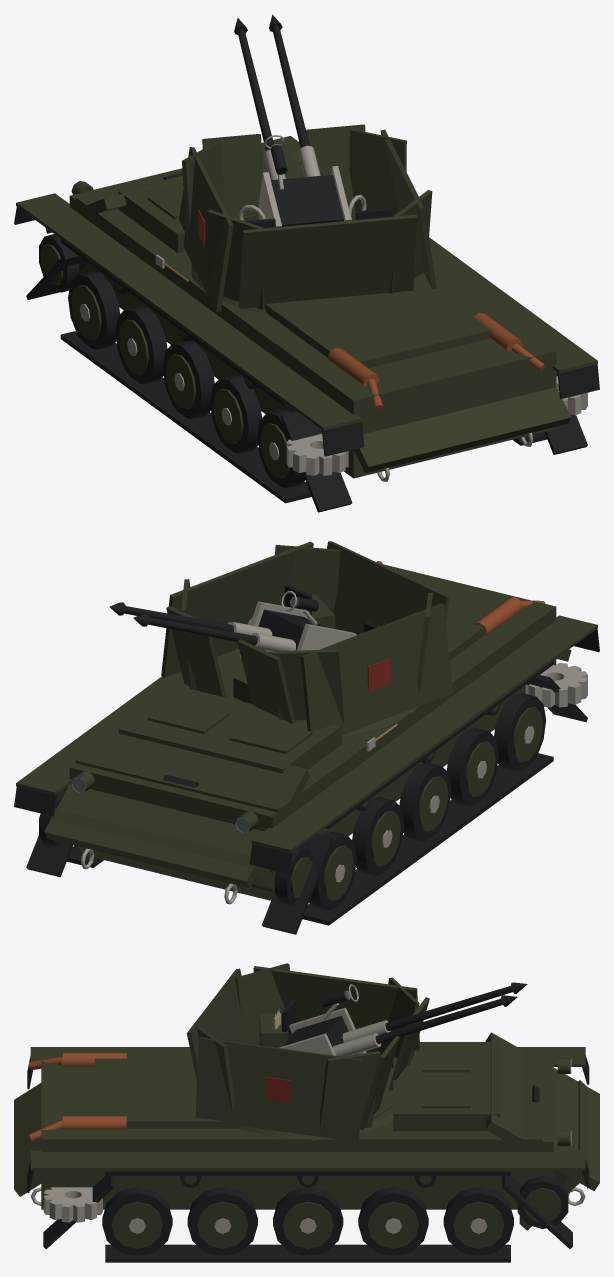
File: m42-duster-self-propelled.glb
3 renders of one model, top to bottom at view 1: azimuth 30°, elevation 25°; view 2: azimuth 150°, elevation 25°; view 3: azimuth 270°, elevation 25°, orthographic. The views are drawn at different scales.
Parts seen in each view (by area): view 1: Mesh_TurretBack, Mesh_HullMain, Mesh_HullDeck, Mesh_Mudguard_L, Mesh_EngineVents, Mesh_HullRear, Mesh_TrackBot_L, Mesh_Mudguard_R, Mesh_TurretSide_L, Mesh_Corner_FR, Mesh_TurretFrontShield_L, Mesh_GunCradle (+31 smaller); view 2: Mesh_GlacisFront, Mesh_Mudguard_L, Mesh_TurretSide_L, Mesh_HullDeck, Mesh_HullMain, Mesh_CabinRaised, Mesh_TurretSide_R, Mesh_TurretBack, Mesh_TrackBot_L, Mesh_GlacisLower, Mesh_Mudguard_R, Mesh_TurretFrontShield_L (+35 smaller); view 3: Mesh_HullMain, Mesh_TurretSide_R, Mesh_HullDeck, Mesh_Mudguard_R, Mesh_EngineVents, Mesh_GlacisFront, Mesh_CabinRaised, Mesh_TrackBot_R, Mesh_TurretSide_L, Mesh_TurretBack, Mesh_HullRear, Mesh_Corner_BL (+37 smaller).
Boxes of the visible parts, box(x1,y1,x2,y2) form: Mesh_TurretBack: box(238, 214, 417, 308); Mesh_HullMain: box(69, 148, 556, 478); Mesh_HullDeck: box(75, 151, 556, 403); Mesh_Mudguard_L: box(16, 193, 362, 430); Mesh_EngineVents: box(265, 272, 490, 368); Mesh_HullRear: box(327, 387, 571, 472); Mesh_TrackBot_L: box(60, 331, 311, 503); Mesh_Mudguard_R: box(261, 136, 597, 373); Mesh_TurretSide_L: box(179, 147, 233, 311); Mesh_Corner_FR: box(349, 129, 406, 219); Mesh_TurretFrontShield_L: box(202, 134, 262, 220); Mesh_GunCradle: box(271, 174, 343, 226); Mesh_GlacisFront: box(44, 720, 309, 888); Mesh_Mudguard_L: box(251, 615, 597, 852); Mesh_TurretSide_L: box(300, 603, 452, 735); Mesh_HullDeck: box(75, 563, 556, 814); Mesh_HullMain: box(69, 611, 556, 891); Mesh_CabinRaised: box(118, 686, 341, 773); Mesh_TurretSide_R: box(161, 541, 313, 677); Mesh_TurretBack: box(327, 541, 449, 634); Mesh_TrackBot_L: box(302, 753, 553, 925); Mesh_GlacisLower: box(51, 808, 274, 900); Mesh_Mudguard_R: box(16, 671, 183, 795); Mesh_TurretFrontShield_L: box(237, 639, 295, 723); Mesh_HullMain: box(41, 1052, 553, 1209); Mesh_TurretSide_R: box(195, 1037, 362, 1141); Mesh_HullDeck: box(41, 1050, 542, 1144); Mesh_Mudguard_R: box(30, 1150, 585, 1170); Mesh_EngineVents: box(94, 1054, 241, 1128); Mesh_GlacisFront: box(485, 1032, 599, 1190); Mesh_CabinRaised: box(393, 1042, 500, 1130); Mesh_TrackBot_R: box(105, 1244, 510, 1262); Mesh_TurretSide_L: box(253, 966, 420, 1052); Mesh_TurretBack: box(186, 968, 247, 1080); Mesh_HullRear: box(14, 1083, 88, 1196); Mesh_Corner_BL: box(235, 963, 289, 1044).
Size of the model in its own units: 2.86 by 2.51 by 5.49.
2 materials, 2 textured.
